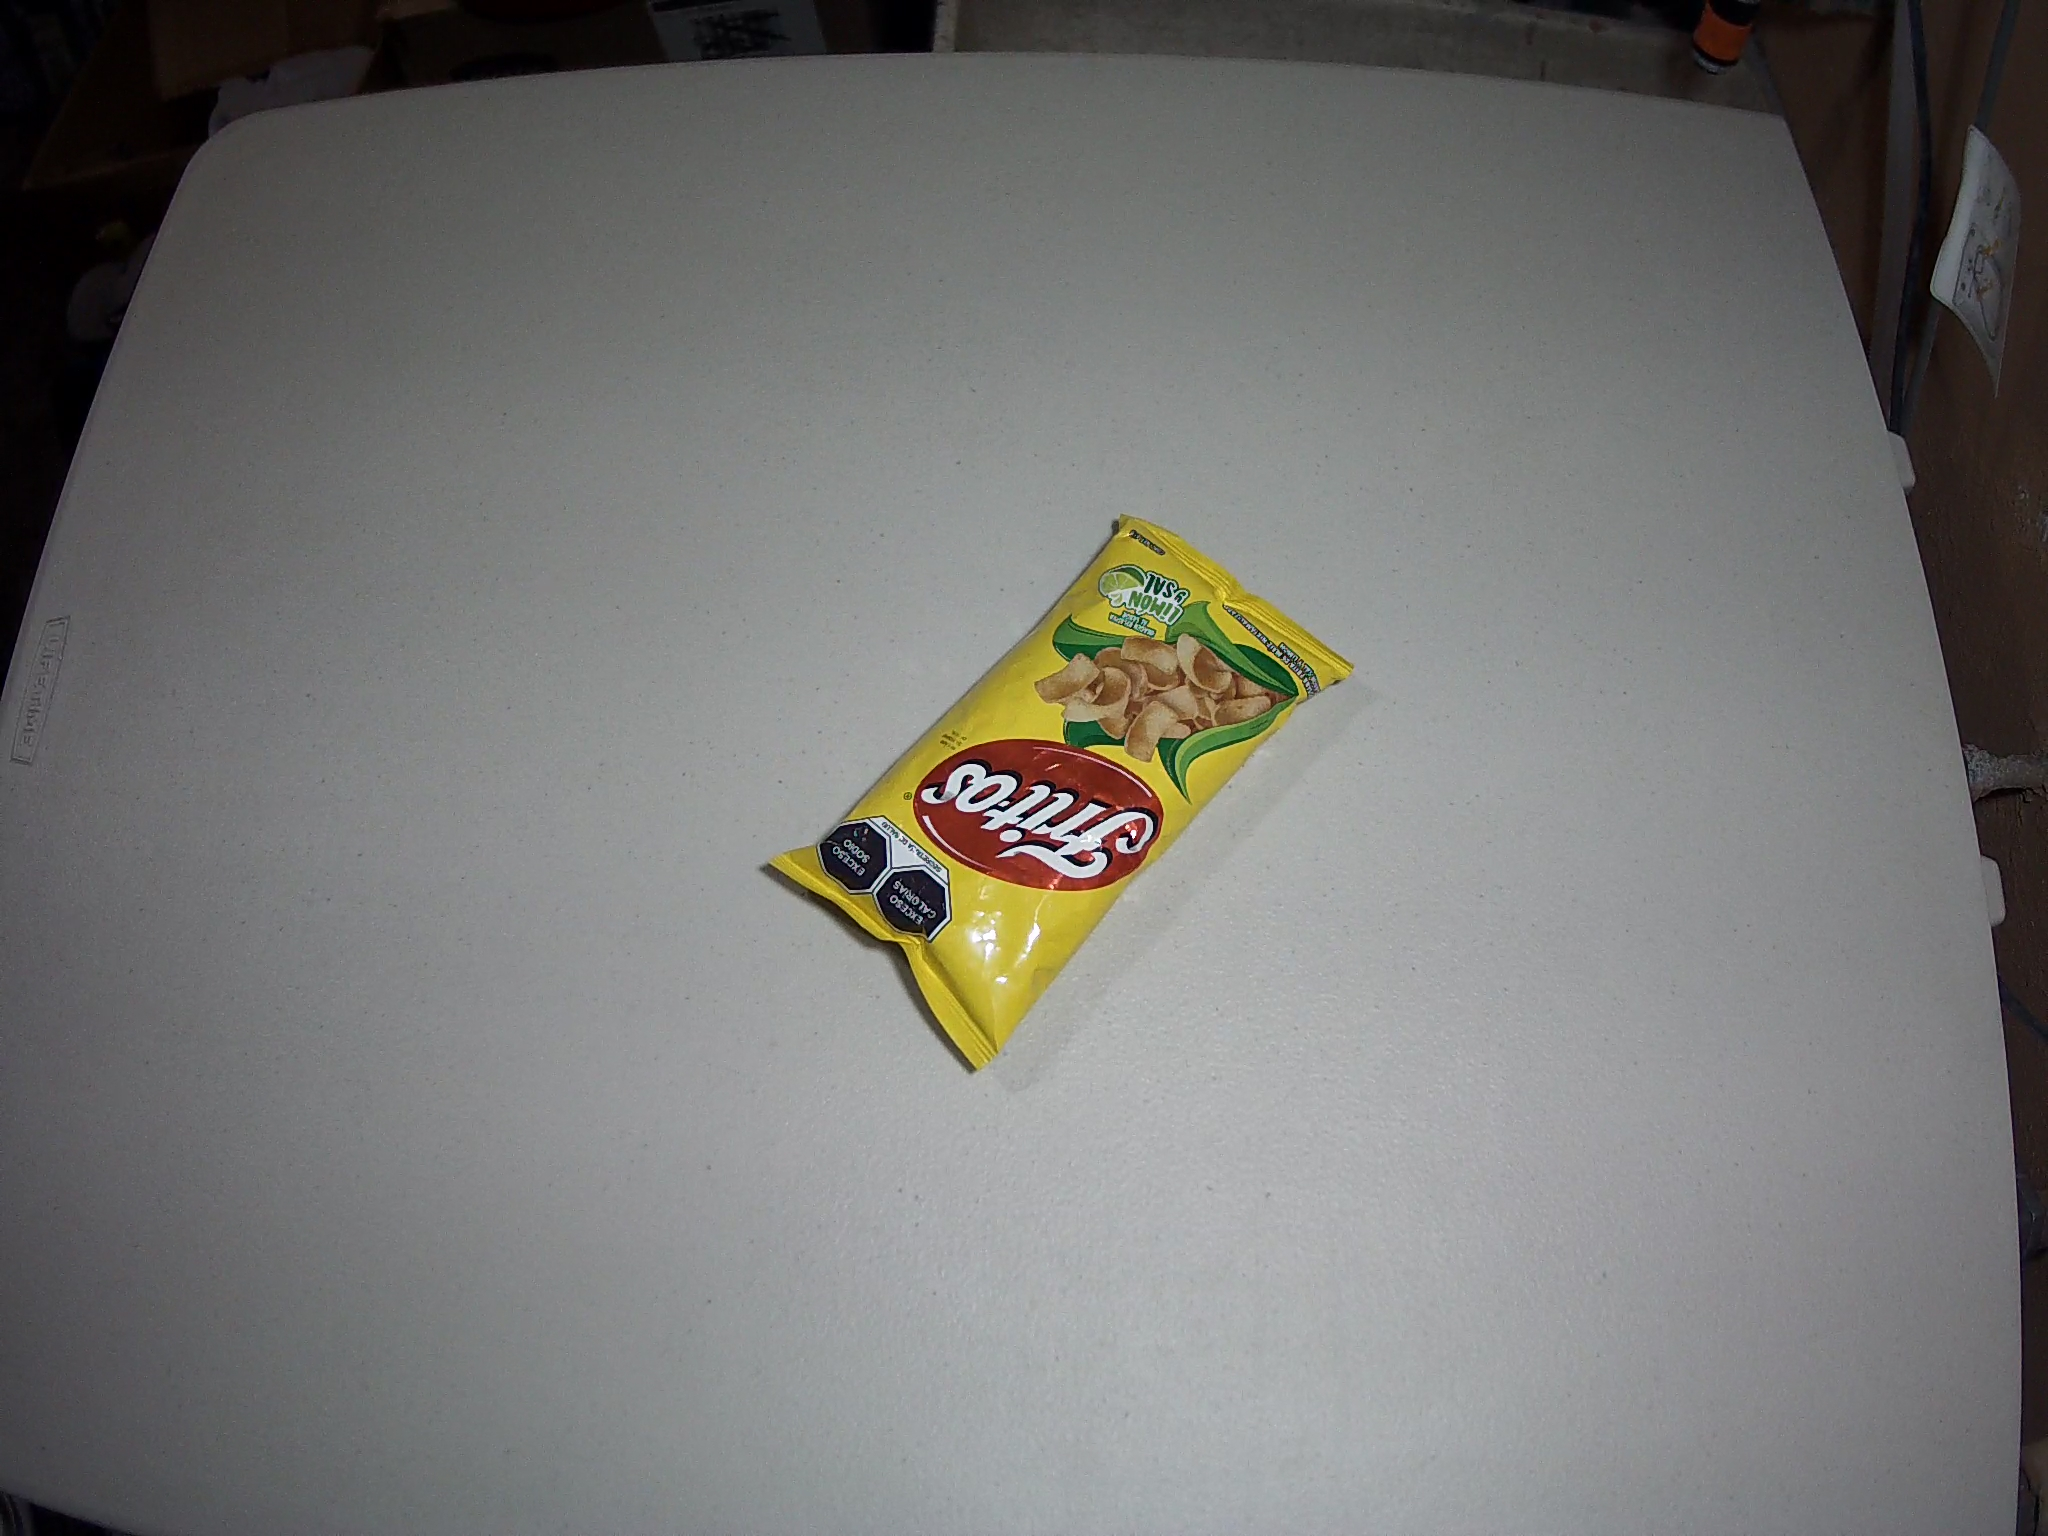FritosSalLimon_65_F: (763, 511, 1356, 1075)
